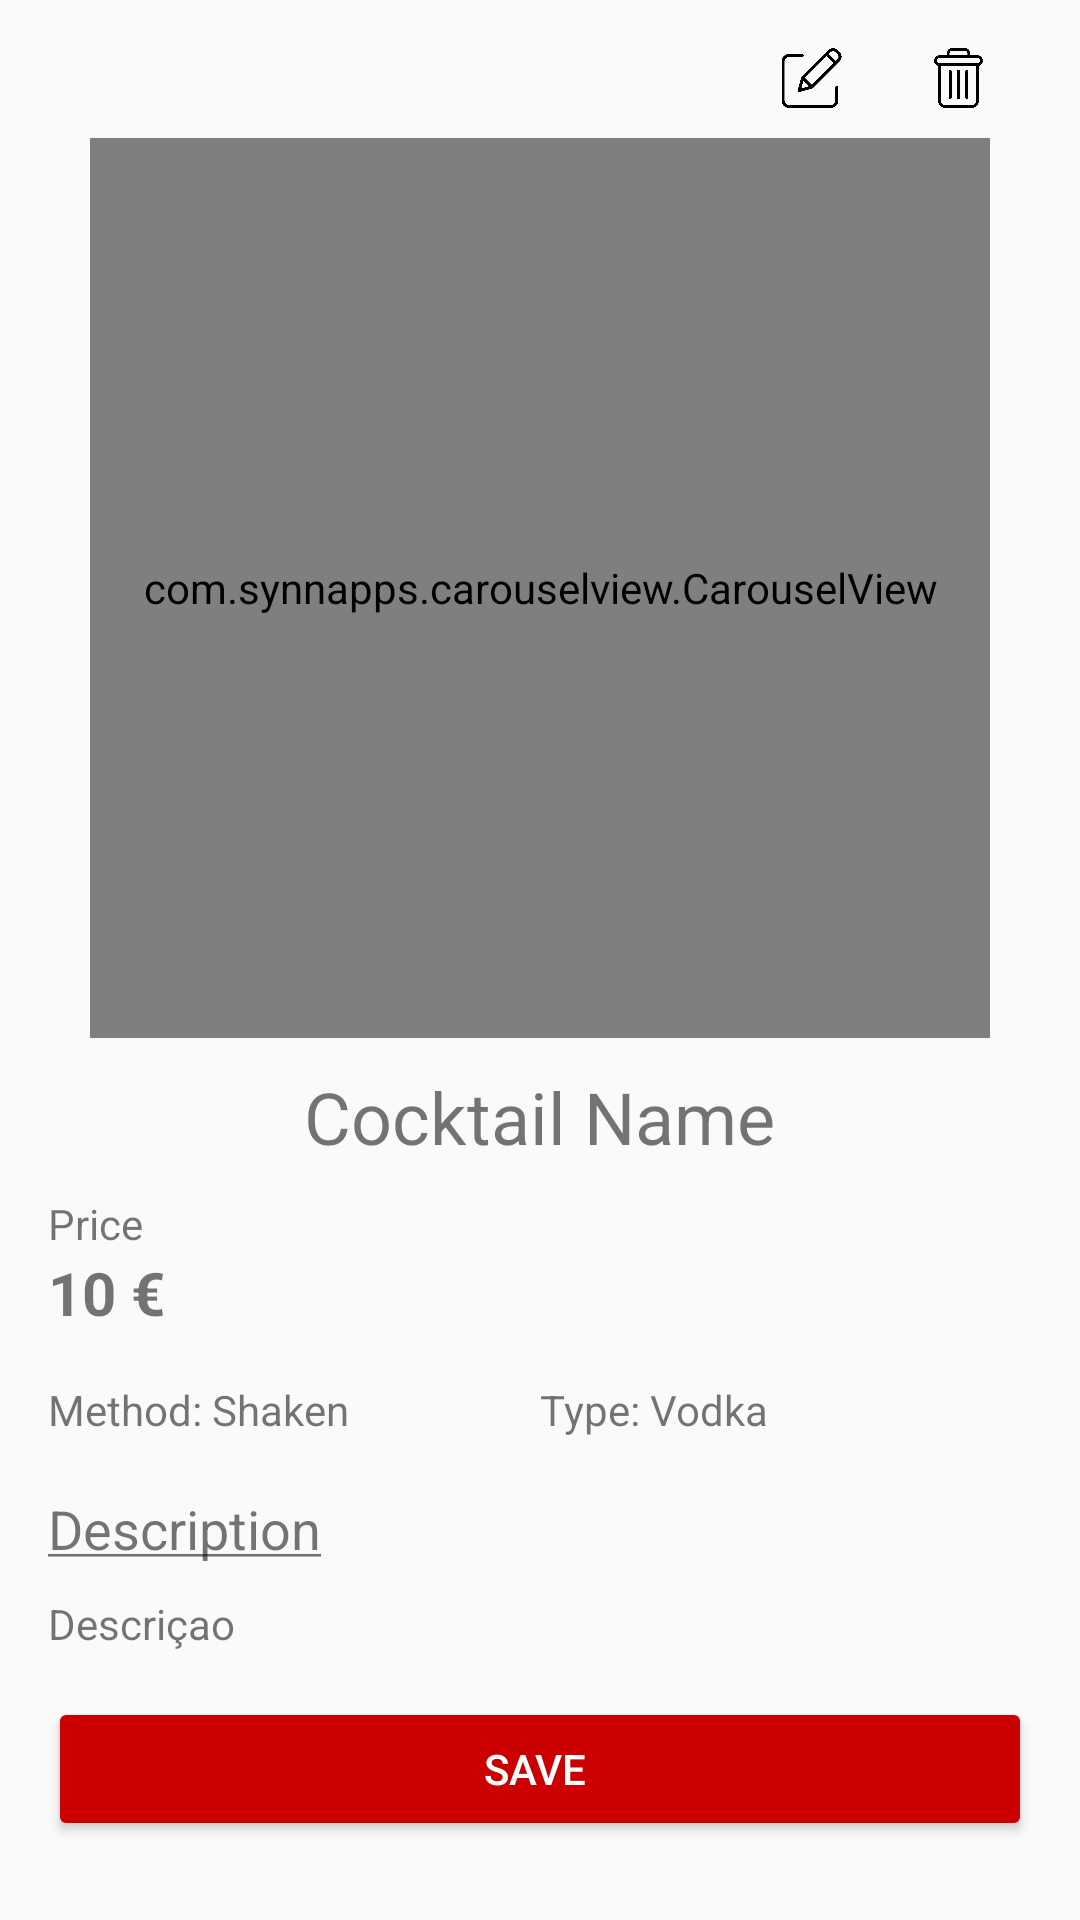

Where to tap for icons on this 1080w x 1920h app screen, as [x,y]:
delete: [958,78]
edit: [812,78]
